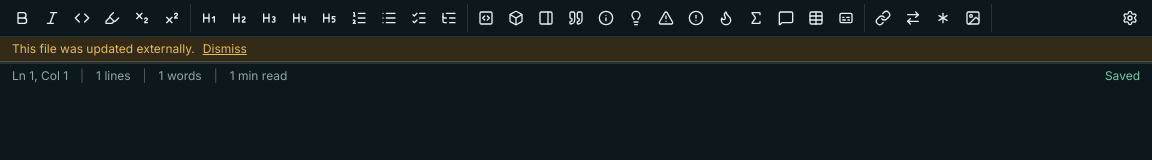
Test: AsciiDocEditor — external-change banner › shows the external-change banner when autosave reports a remote edit, and dismisses it
The width and height of the screenshot is (1152, 160).
Click the button "Dismiss": (225, 49) left=203, top=41, right=247, bottom=57
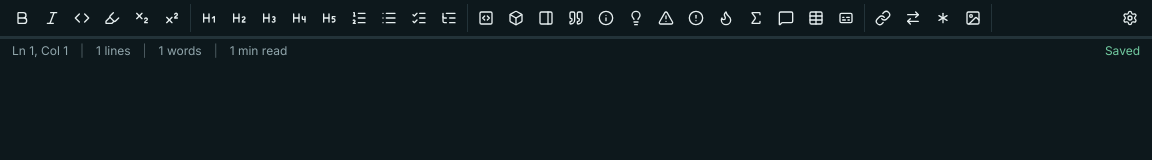
Check: the button "Dismiss" is gone
